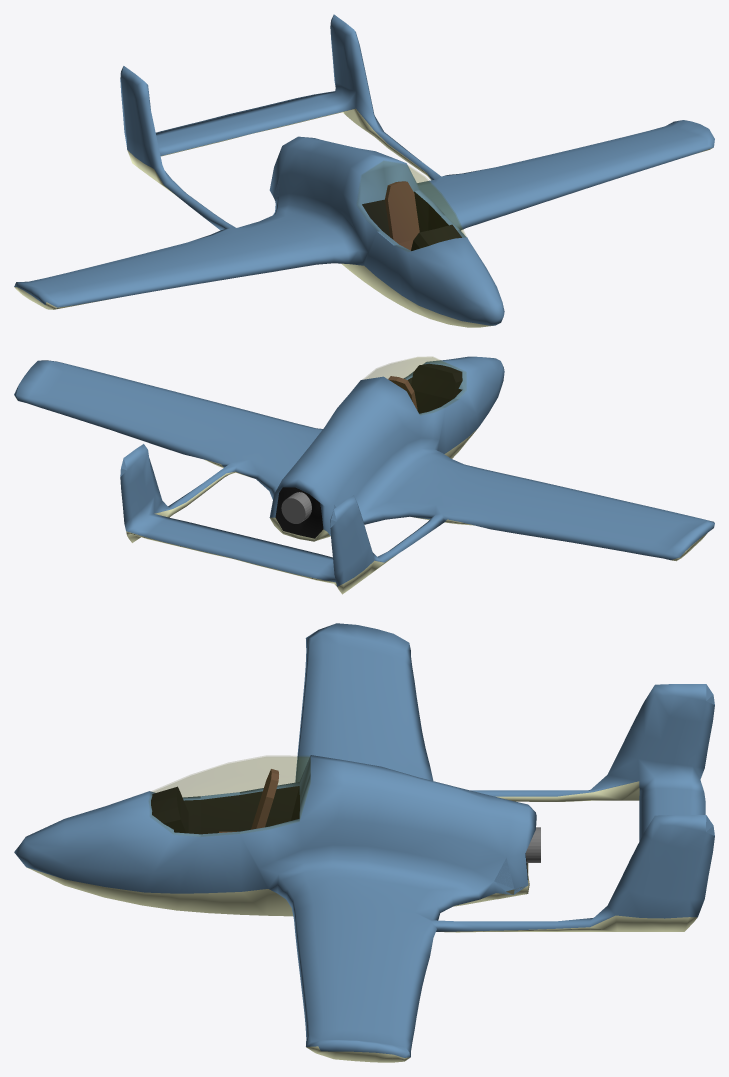
File: Aircraft 1 new.glb
3 renders of one model, top to bottom at view 1: azimuth 30°, elevation 25°; view 2: azimuth 150°, elevation 25°; view 3: azimuth 270°, elevation 25°, orthographic. The views are drawn at different scales.
Visible parts, largest first — view 1: Aircraft 1; view 2: Aircraft 1; view 3: Aircraft 1.
Part boxes in pixels (x1,y1,x2,y2): Aircraft 1: [14, 14, 714, 327]; Aircraft 1: [14, 356, 714, 594]; Aircraft 1: [14, 623, 714, 1062].
Bounding box in the file's own units: 12.65 × 2.29 × 8.96.
